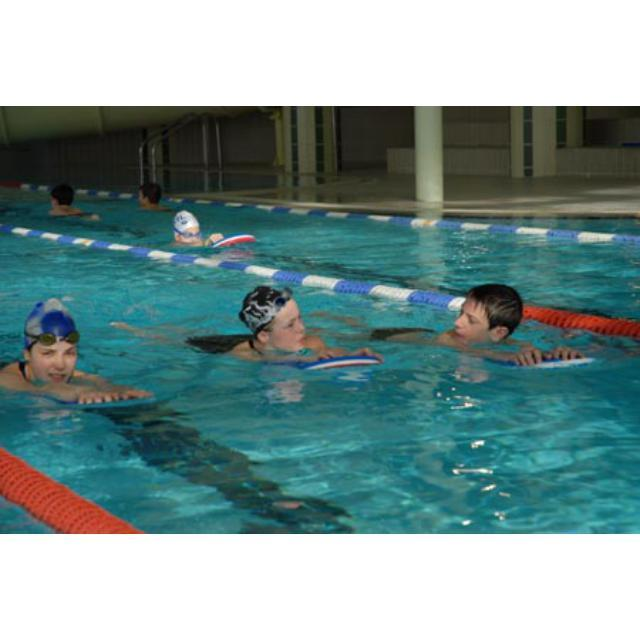human: (328, 279, 584, 385), (176, 276, 376, 374), (1, 291, 157, 409), (170, 206, 224, 251), (47, 182, 82, 218), (136, 180, 164, 214)
